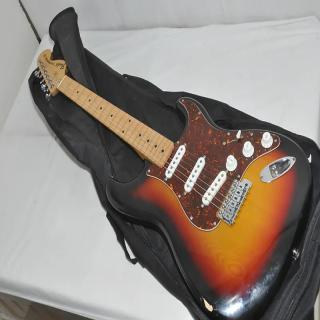Fender Stratocaster: (33, 47, 315, 320)
SSS: (164, 141, 229, 209)
